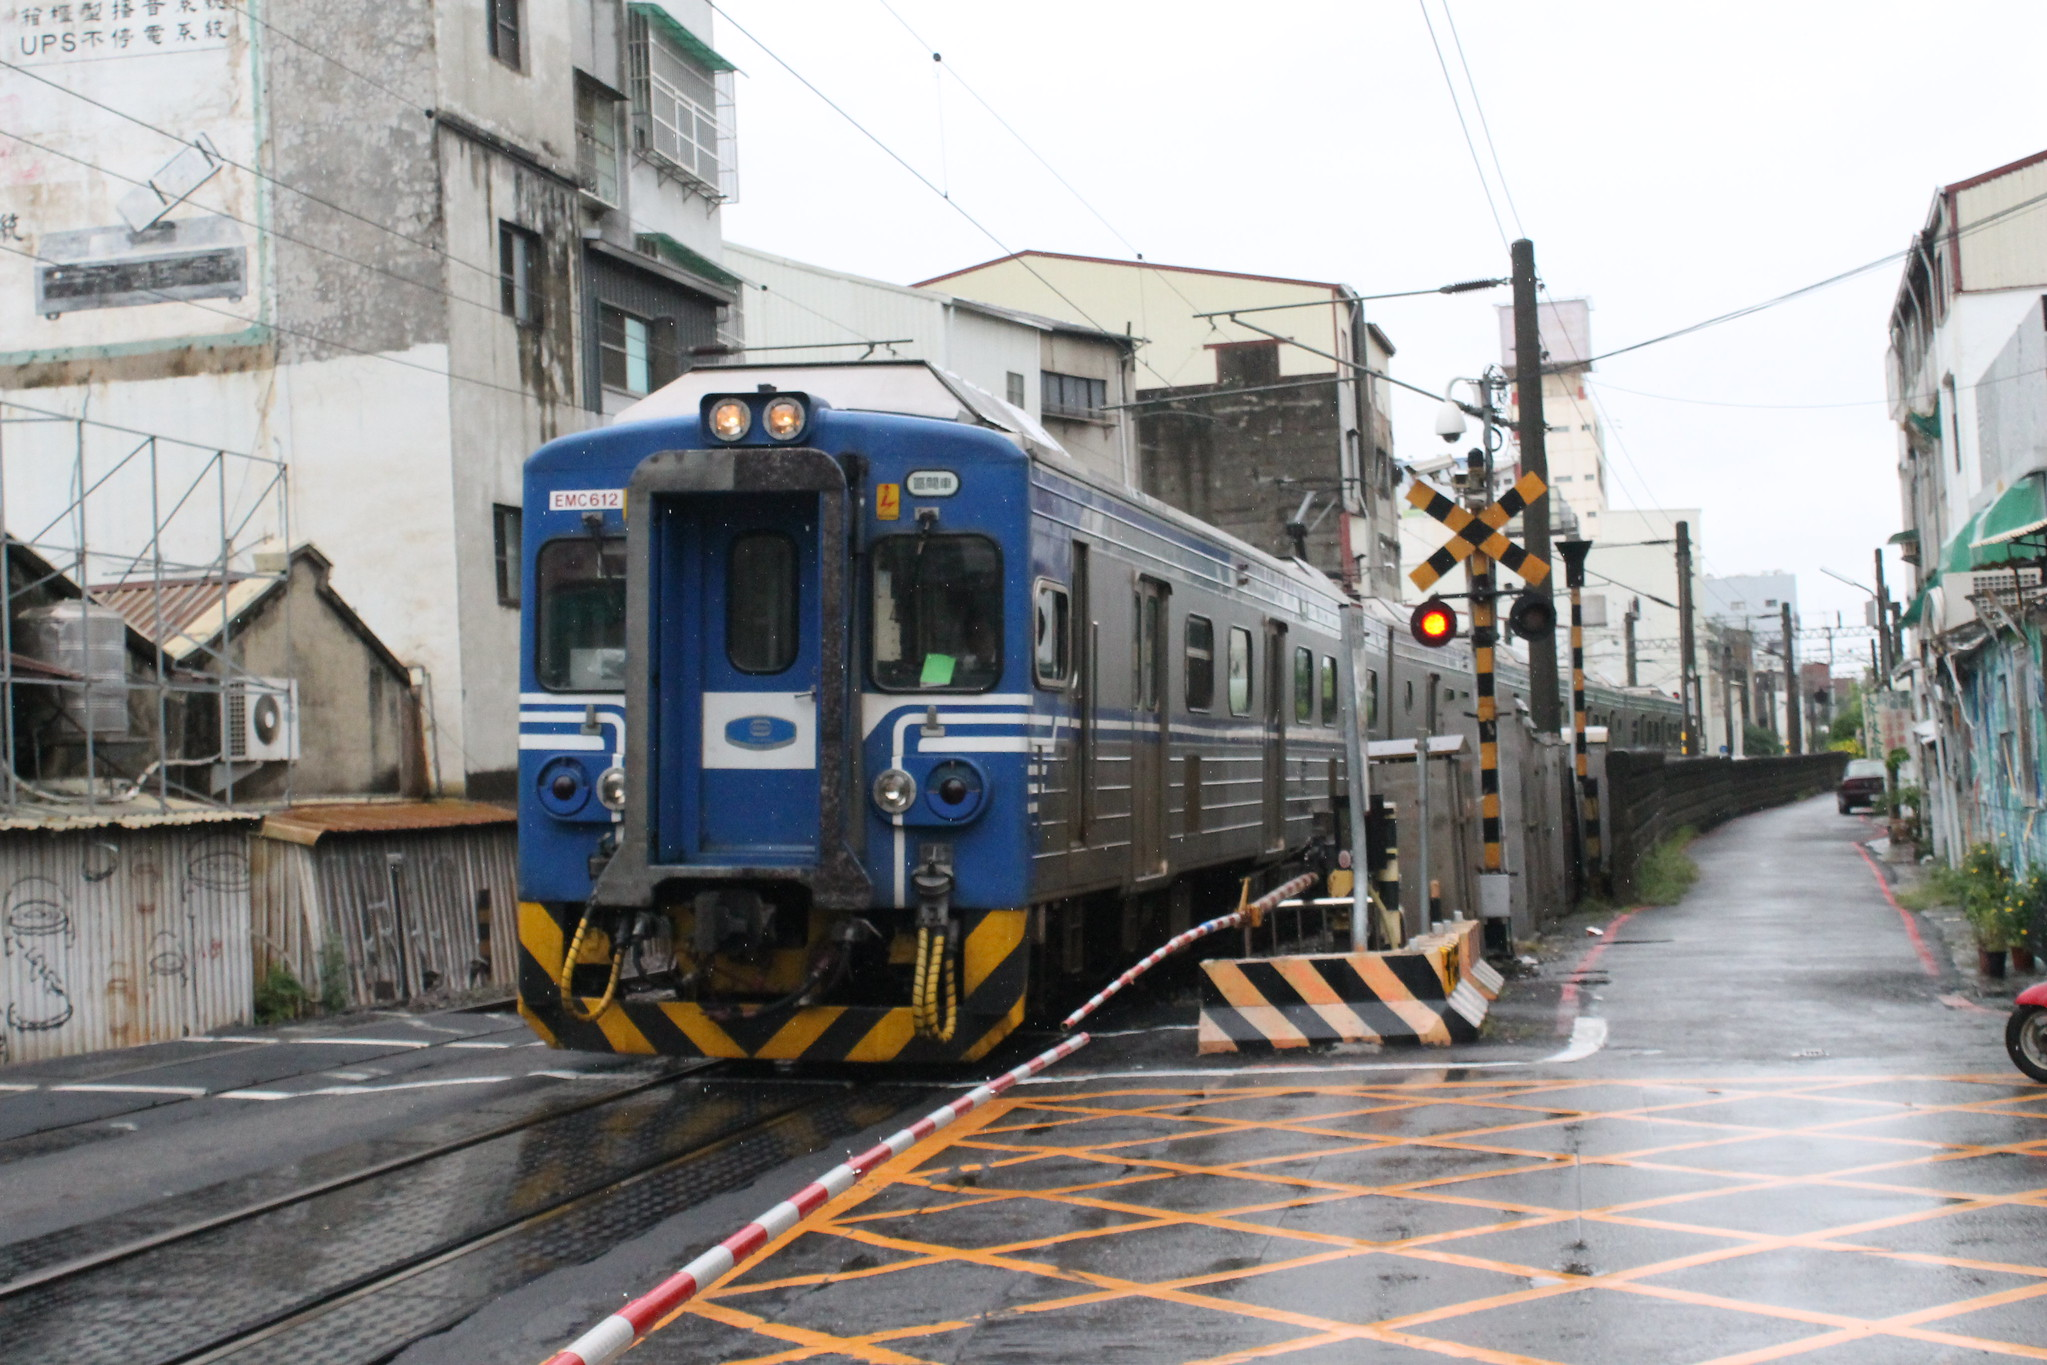train: (503, 315, 1691, 1071)
